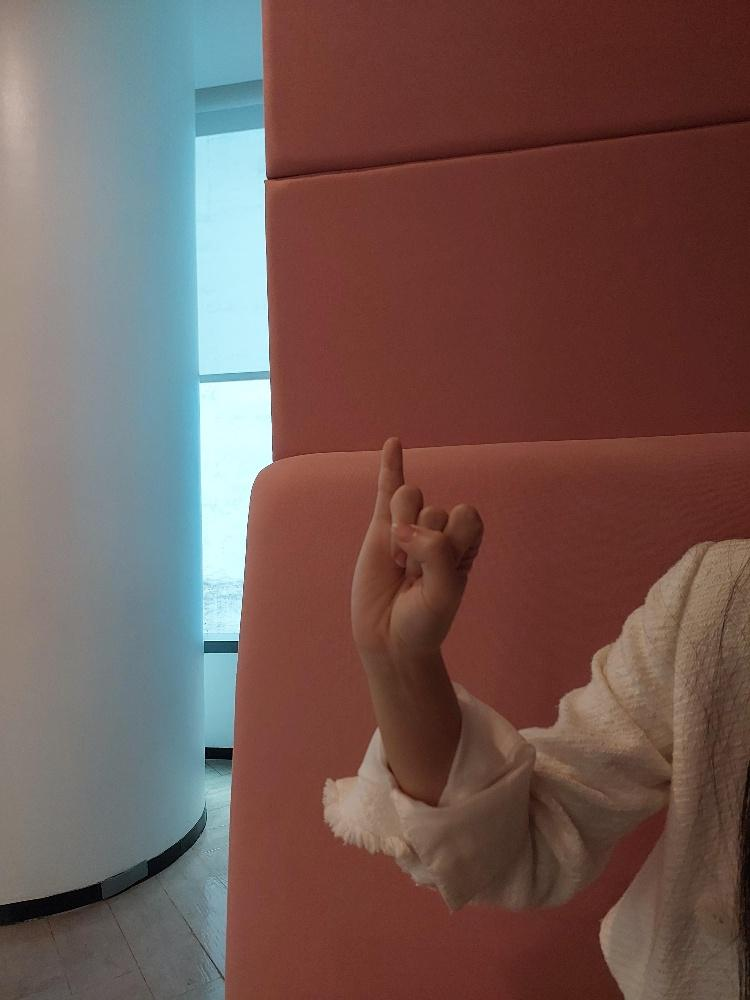i: (347, 434, 482, 646)
